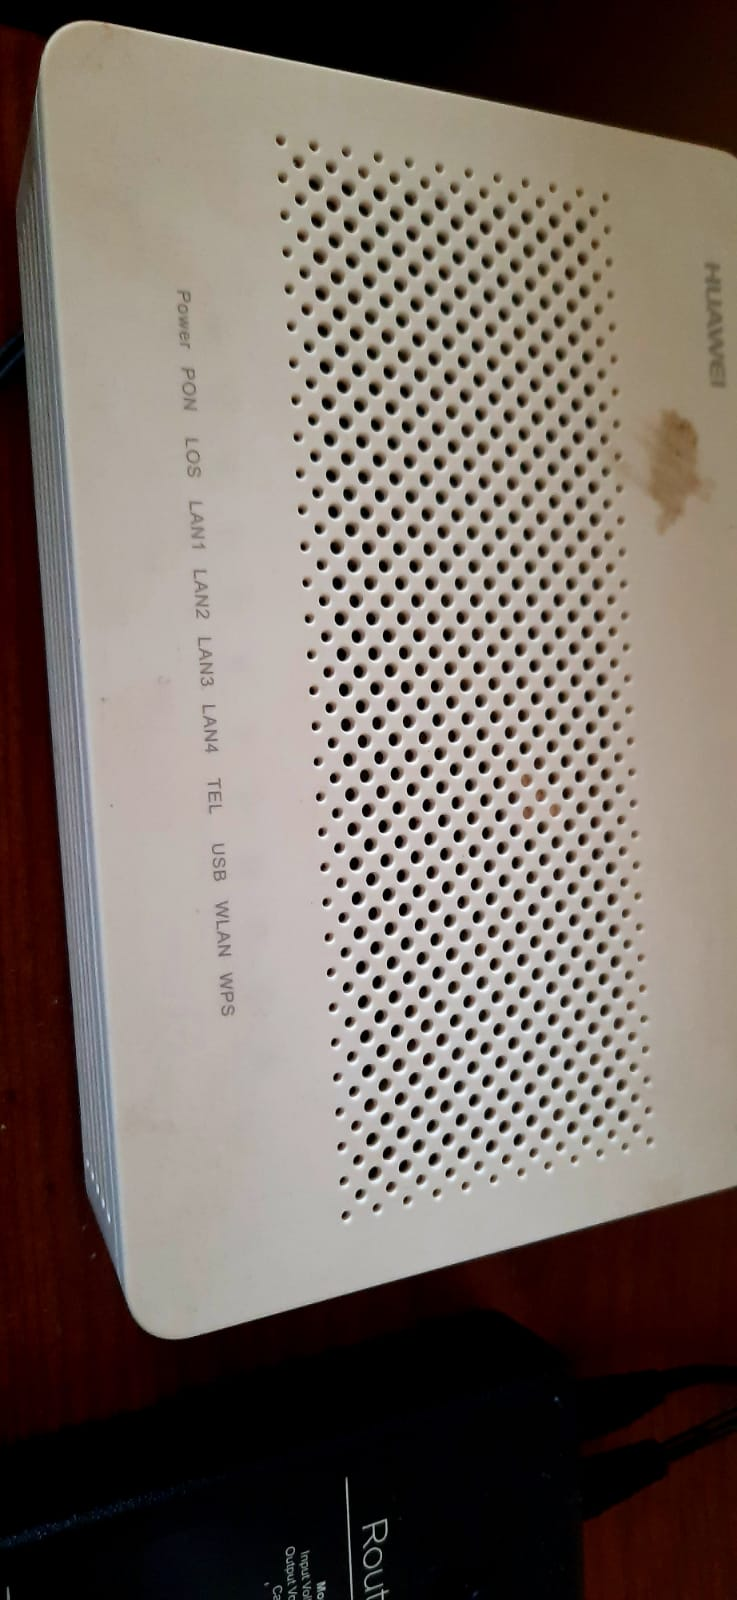WhiteWireIssue: (91, 215, 272, 1106)
